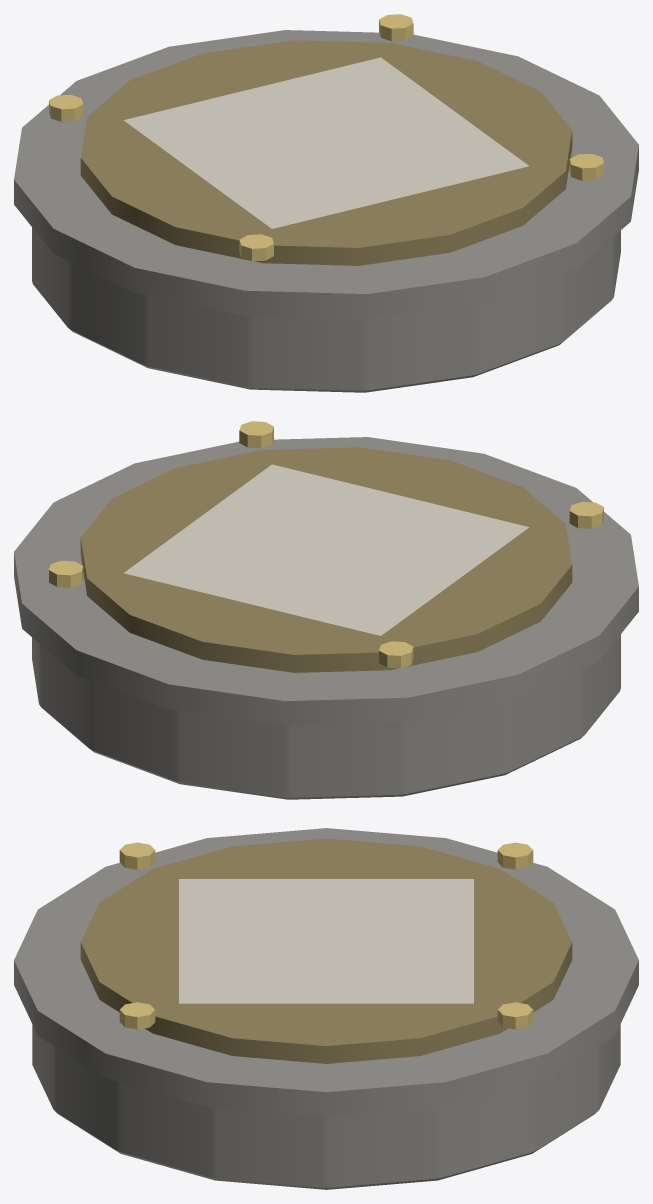
The model's file is Clue_EngravedPlate.fbx.
The picture shows the model from 3 angles, top to bottom: view 1: azimuth 30°, elevation 25°; view 2: azimuth 150°, elevation 25°; view 3: azimuth 270°, elevation 25°; orthographic projection.
Visible parts, largest first — view 1: Clue_EngravedPlate; view 2: Clue_EngravedPlate; view 3: Clue_EngravedPlate.
Part boxes in pixels (x1=…): Clue_EngravedPlate: x1=14, y1=14, x2=638, y2=392; Clue_EngravedPlate: x1=14, y1=421, x2=638, y2=799; Clue_EngravedPlate: x1=14, y1=828, x2=638, y2=1189.
Size of the model in its own units: 63.6 by 15.4 by 63.6.
